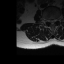CCS_normal: (51, 18, 53, 25)
LFS_normal: (55, 16, 57, 22)
LLS_normal: (53, 18, 55, 24)
RFS_stenosis: (47, 17, 49, 23)
RLS_normal: (49, 18, 51, 24)
